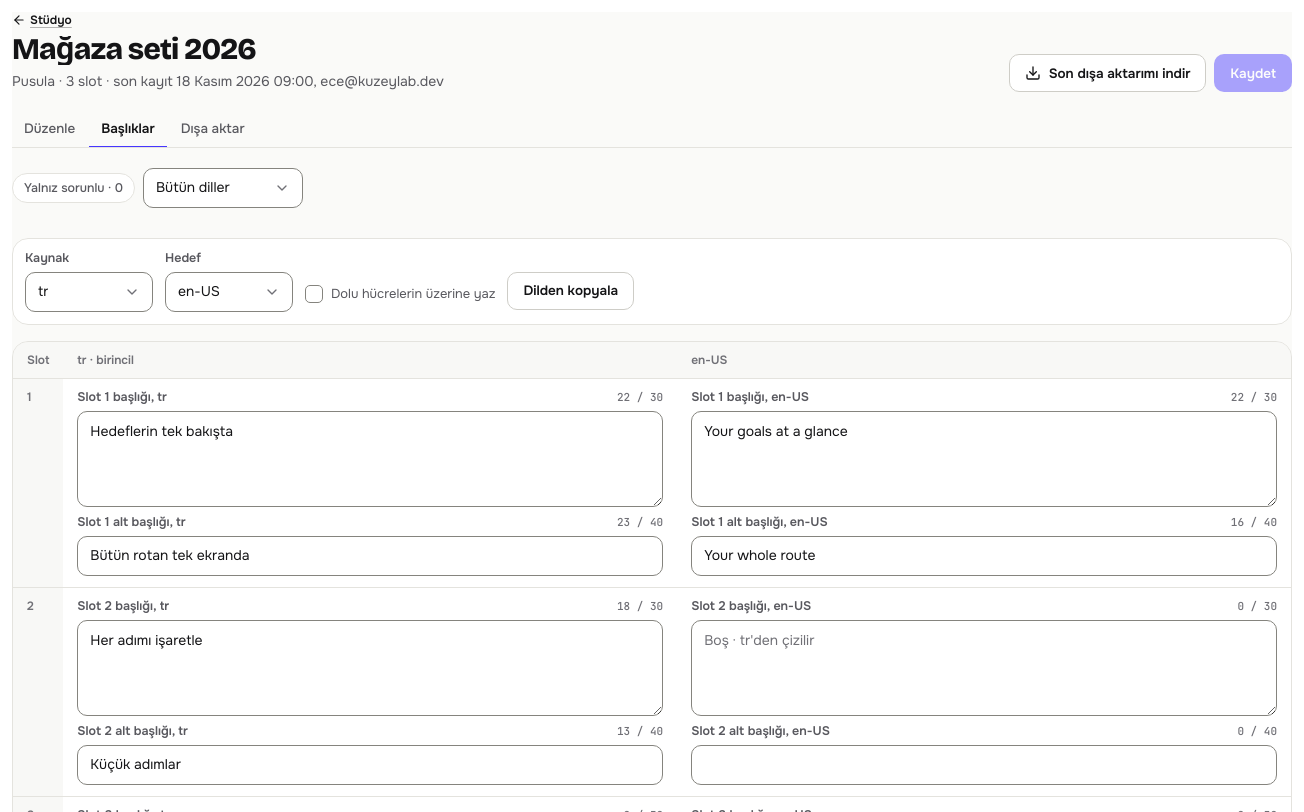
Scenario: template editor: captions › copies one language into the empty cells of another
What coordinates should you click on to do the following:
click the button "Dilden kopyala"
I would click on:
 (571, 291)
Its box is top-left (507, 272), bottom-right (634, 310).
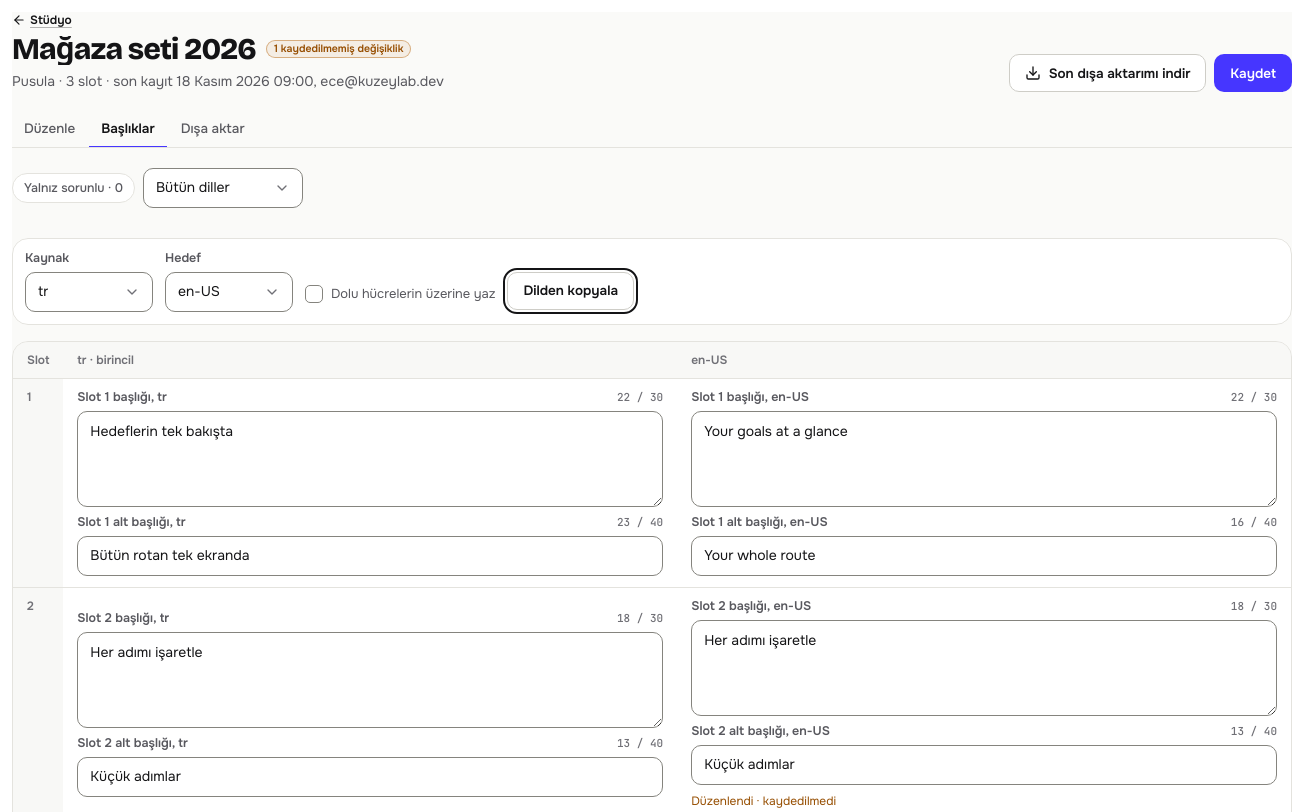
Check: the text box labelled "Slot 1 başlığı, en-US" holds "Your goals at a glance", box top-left (691, 411), bottom-right (1277, 507)
Check: the text box labelled "Slot 2 başlığı, en-US" holds "Her adımı işaretle", box top-left (691, 620), bottom-right (1277, 716)
